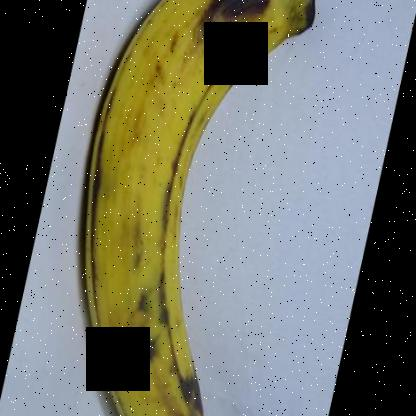ripe: (71, 0, 320, 415)
